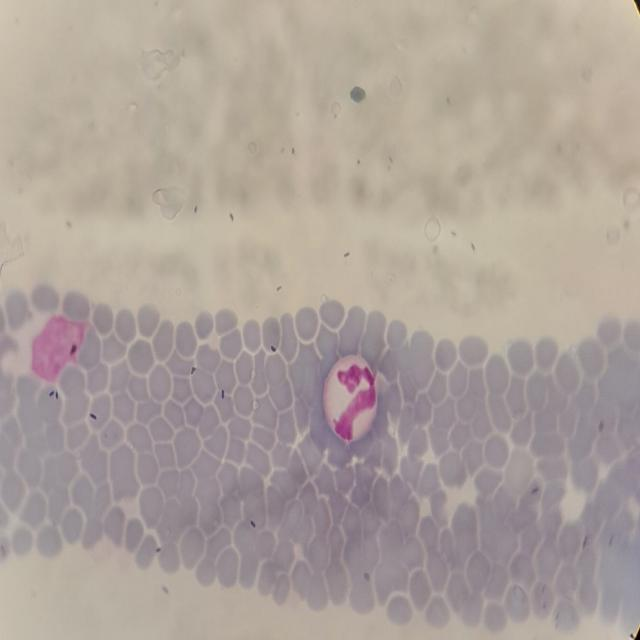Neutrofilo: (318, 354, 379, 442)
